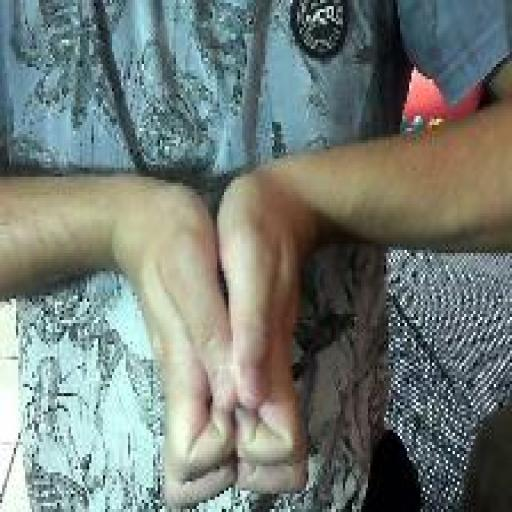I -boar-: (128, 164, 320, 512)
